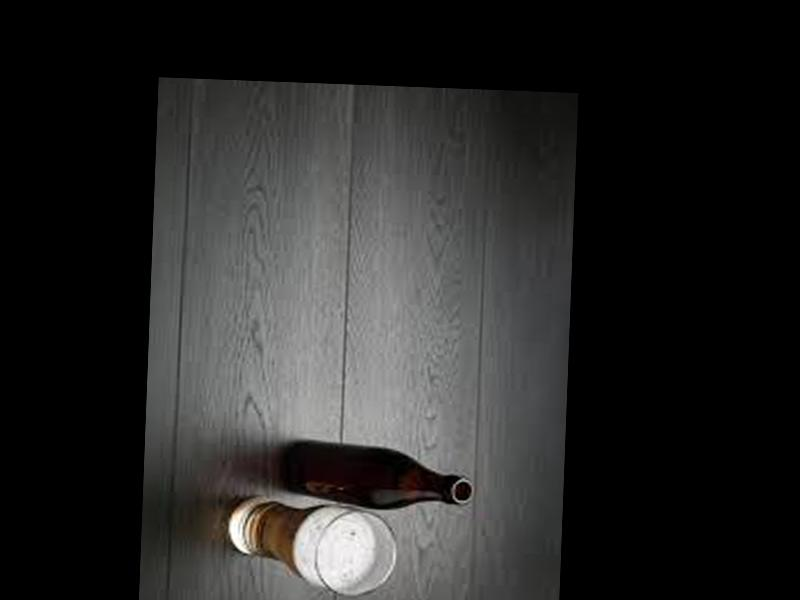Beer: (273, 437, 477, 514)
